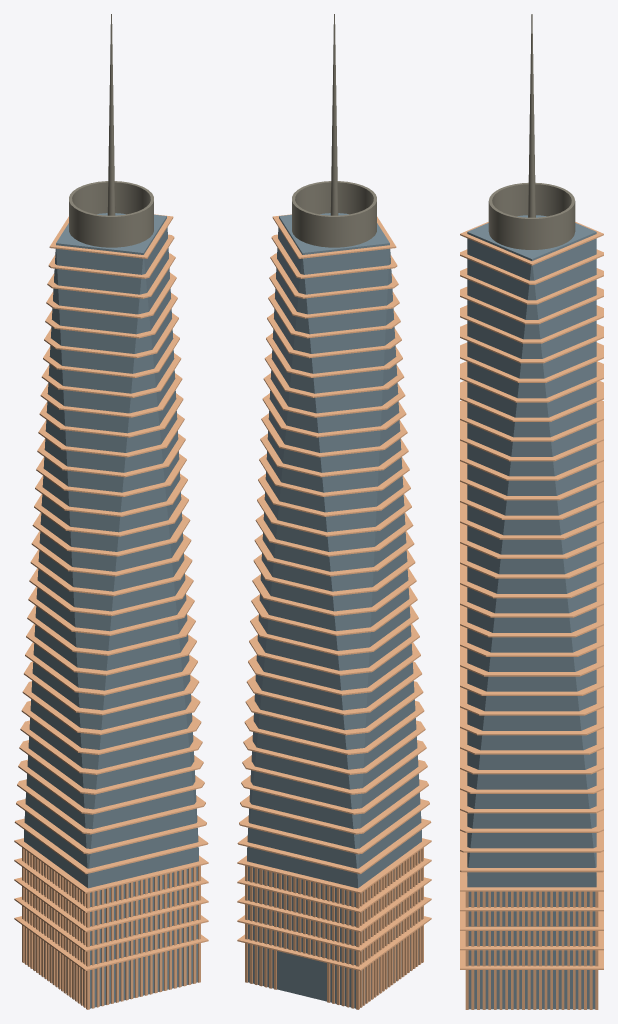
Rendered from TradeCenter.fbx.
3 renders of one model, left to right at view 1: azimuth 30°, elevation 25°; view 2: azimuth 150°, elevation 25°; view 3: azimuth 270°, elevation 25°, orthographic.
Parts seen in each view (by area): view 1: Object_135; view 2: Object_135; view 3: Object_135.
Boxes of the visible parts, x1=… form: Object_135: x1=14, y1=14, x2=208, y2=1009; Object_135: x1=237, y1=14, x2=431, y2=1009; Object_135: x1=460, y1=14, x2=603, y2=1009.
Size of the model in its own units: 200 by 1484 by 200.
